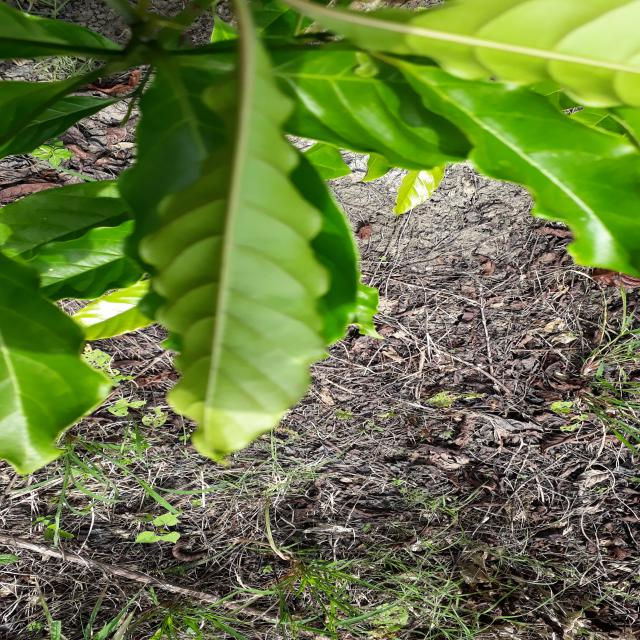Sanas: (140, 1, 380, 466)
